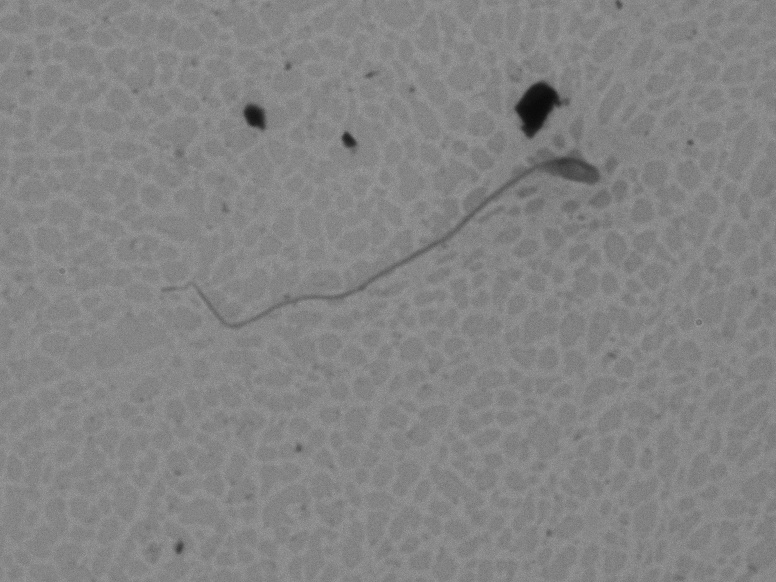Abnormal: (148, 143, 643, 363)
